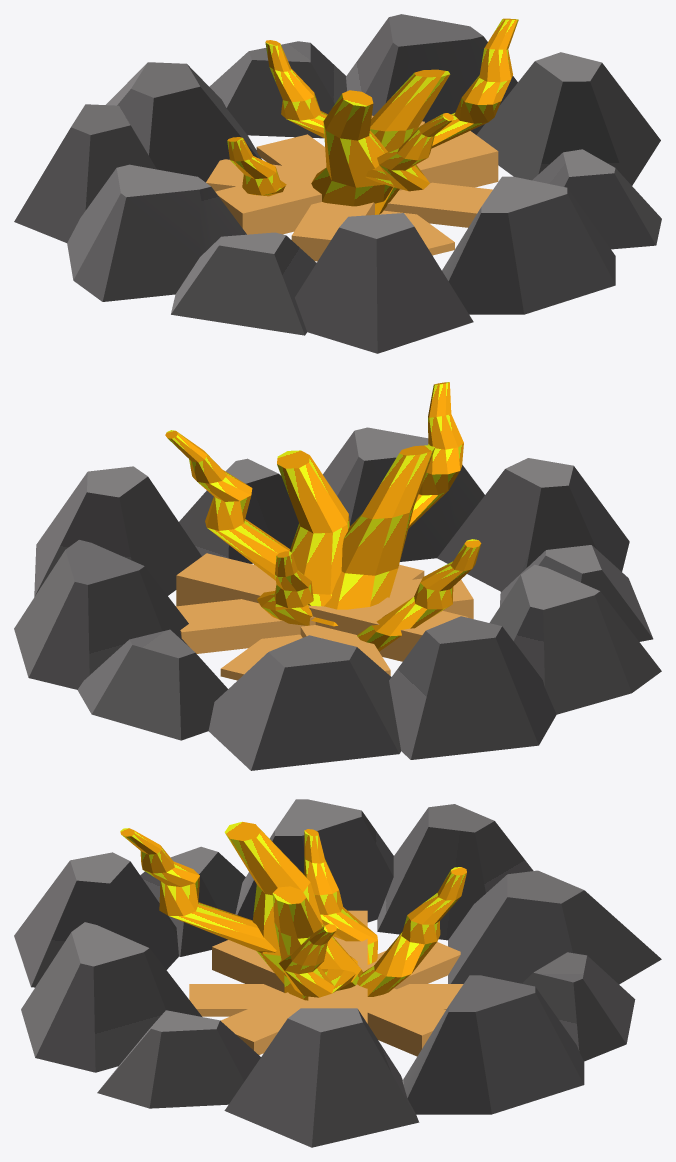
File: IP2_1_fire.obj
3 renders of one model, top to bottom at view 1: azimuth 30°, elevation 25°; view 2: azimuth 150°, elevation 25°; view 3: azimuth 270°, elevation 25°, orthographic. The views are drawn at different scales.
Parts seen in each view (by area): view 1: campfireStones_rocks, Cylinder.001, campfire_large; view 2: campfireStones_rocks, Cylinder.001, campfire_large; view 3: campfireStones_rocks, Cylinder.001, campfire_large.
Boxes of the visible parts, x1,y1,x2,y2 form: campfireStones_rocks: (14,14,661,353); Cylinder.001: (227,18,518,214); campfire_large: (206,115,498,261); campfireStones_rocks: (14,427,661,770); Cylinder.001: (165,382,481,651); campfire_large: (176,553,473,680); campfireStones_rocks: (14,799,661,1147); Cylinder.001: (120,821,466,1000); campfire_large: (189,910,463,1056).
Bounding box in the file's own units: 59.23 × 18.11 × 56.46.
